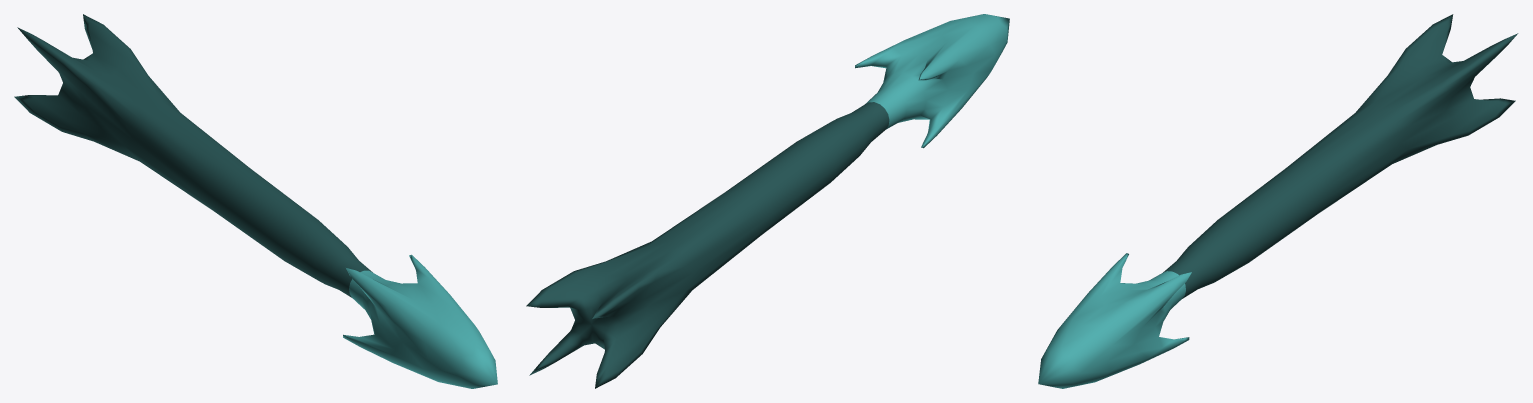
The model's file is Hacking_Harpoon_Missile.fbx.
3 renders of one model, left to right at view 1: azimuth 30°, elevation 25°; view 2: azimuth 150°, elevation 25°; view 3: azimuth 330°, elevation 25°, orthographic.
Parts seen in each view (by area): view 1: pCylinder1; view 2: pCylinder1; view 3: pCylinder1.
Boxes of the visible parts, x1,y1,x2,y2 form: pCylinder1: (14, 14, 497, 388); pCylinder1: (526, 14, 1009, 388); pCylinder1: (1038, 14, 1518, 388).
Size of the model in its own units: 2.13 by 2.13 by 22.59.
